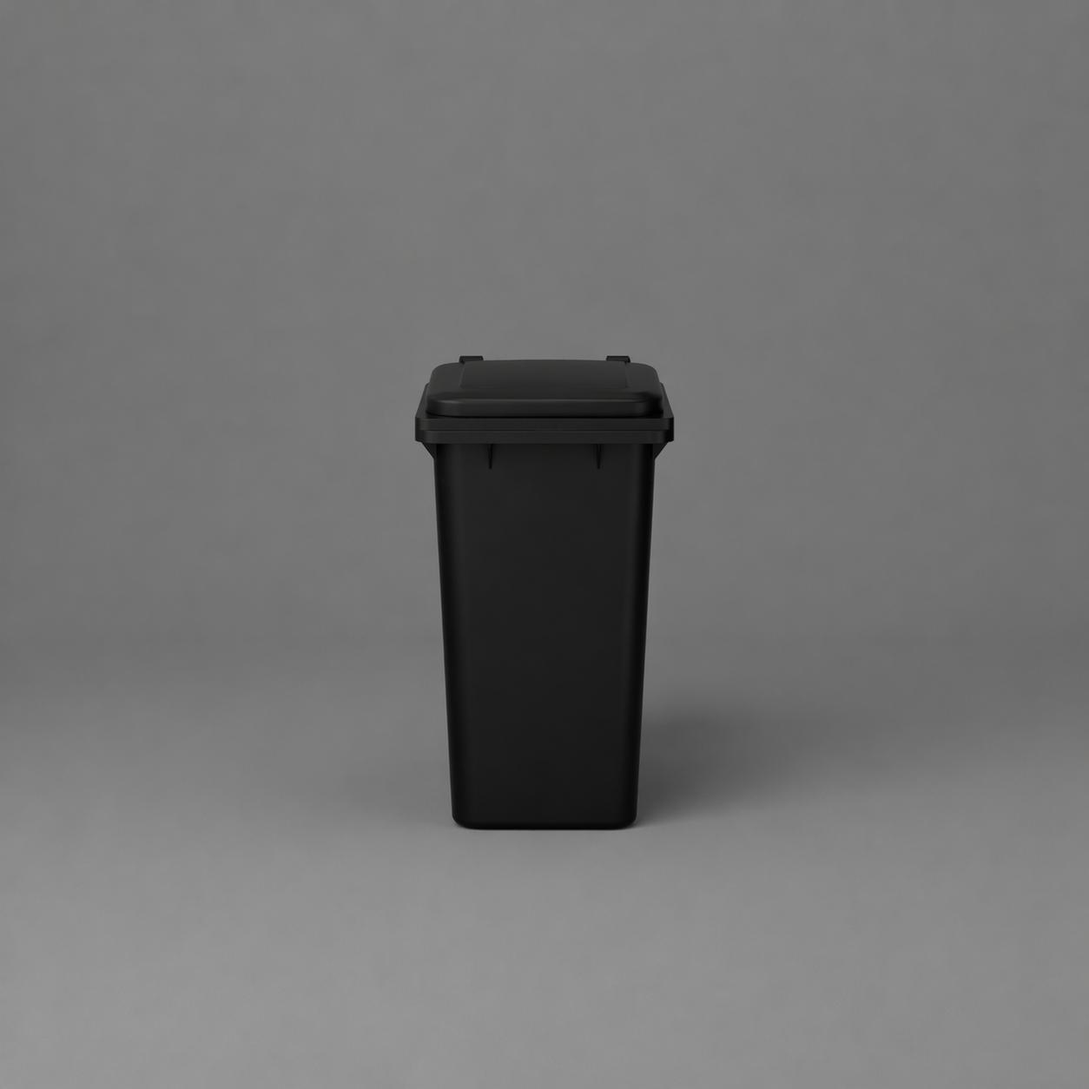garbage container: (400, 340, 687, 842)
